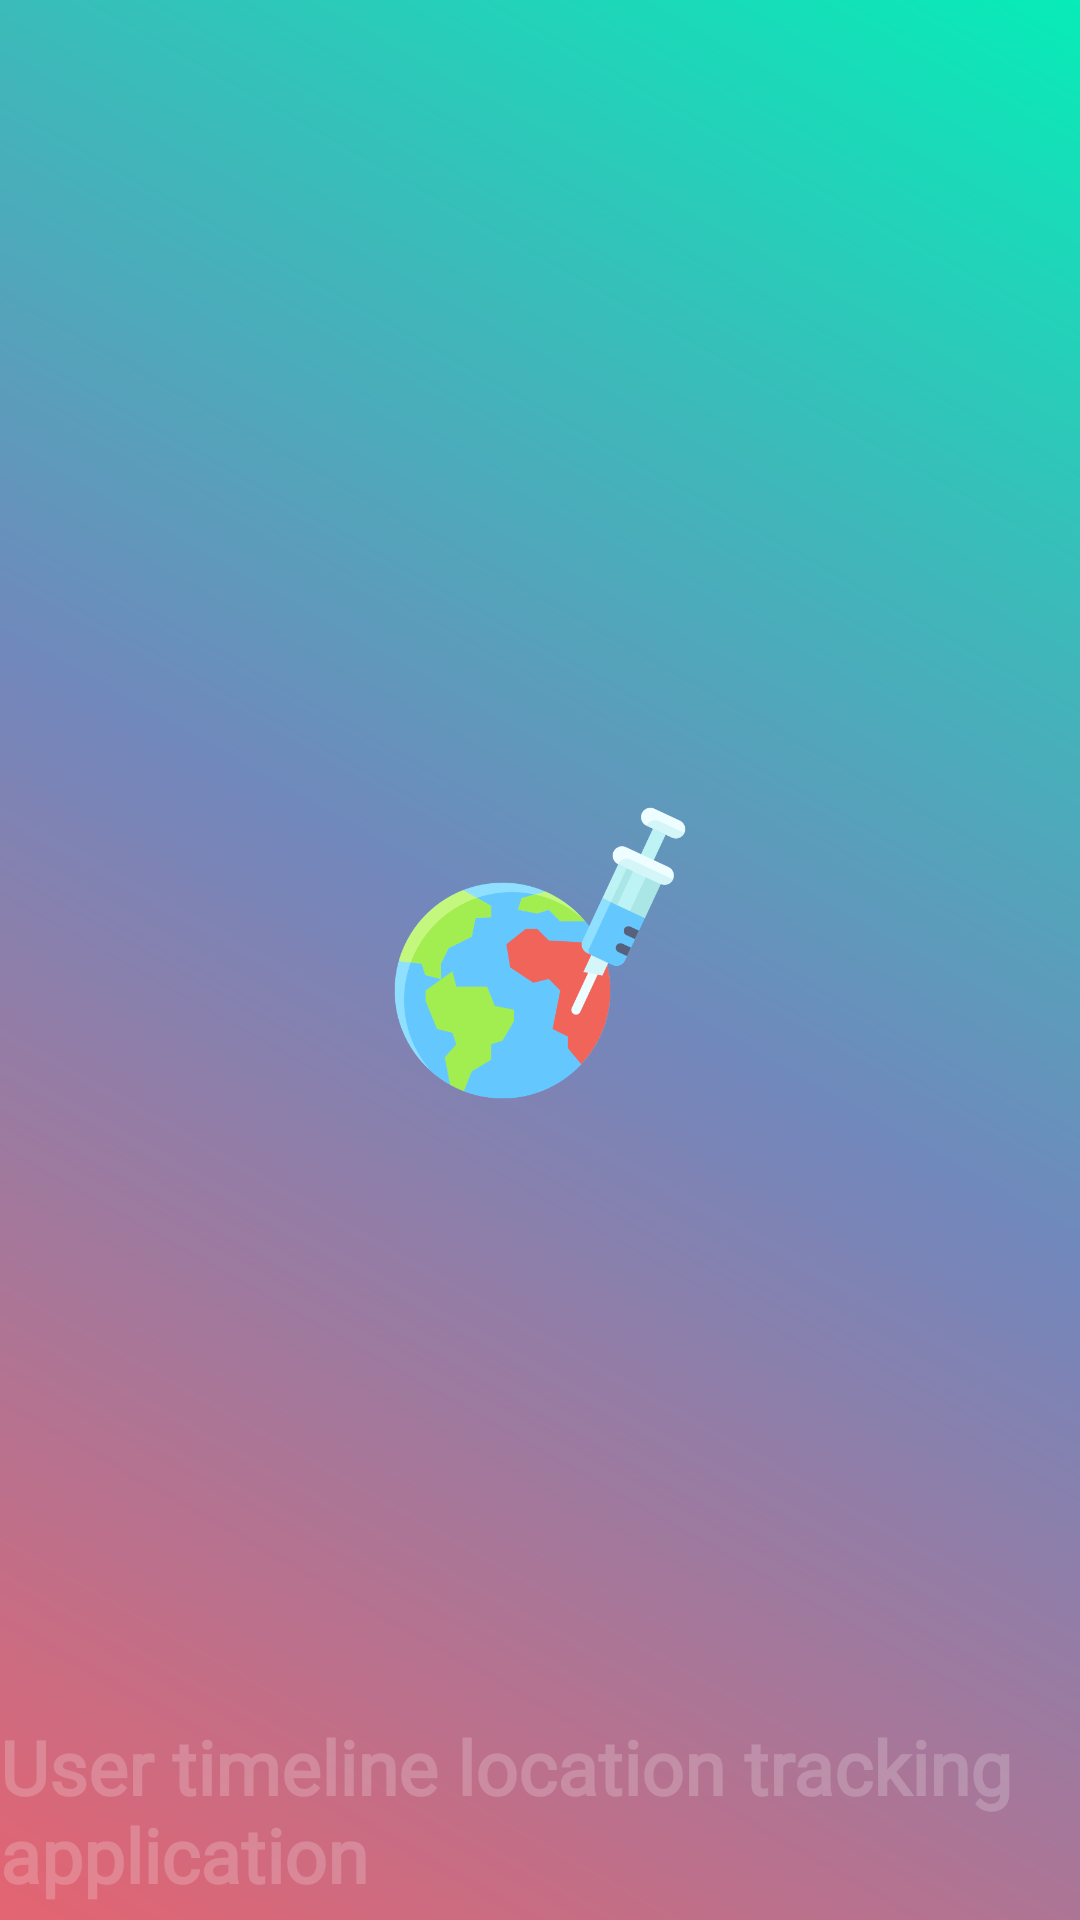

Screen size 1080*1920. Icon name, then its box in pixels as (x1, y1, x2, y2):
world: (390, 808, 685, 1103)
